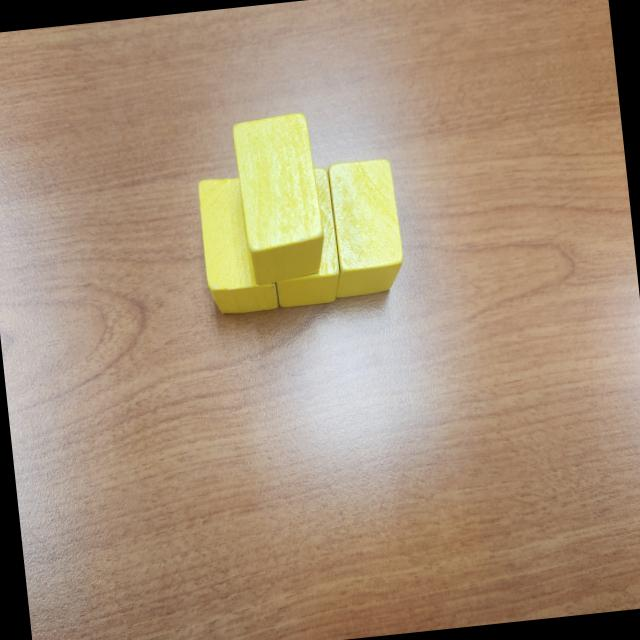yellow: (230, 111, 328, 286), (321, 156, 407, 300), (197, 173, 280, 318), (264, 165, 342, 312)
